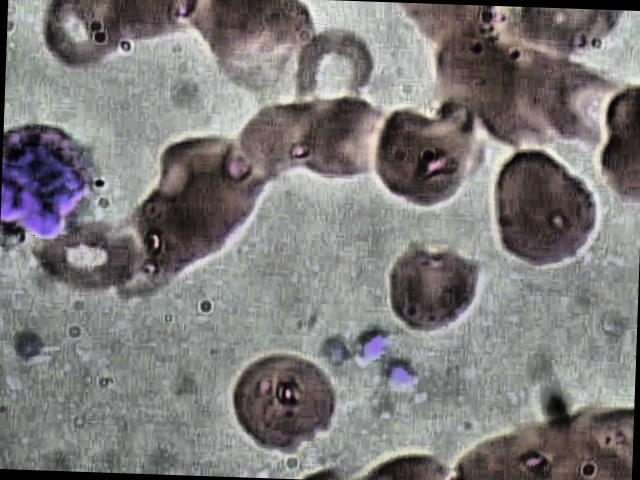Platelets: (377, 354, 419, 394), (11, 324, 52, 364), (355, 324, 390, 362), (318, 333, 352, 371)
RBC: (481, 147, 601, 272), (360, 102, 480, 227), (228, 350, 346, 458), (385, 239, 488, 338), (32, 227, 148, 302), (288, 29, 382, 117), (293, 95, 387, 183), (534, 64, 628, 152), (34, 0, 128, 79)
WBC: (1, 118, 98, 248)
